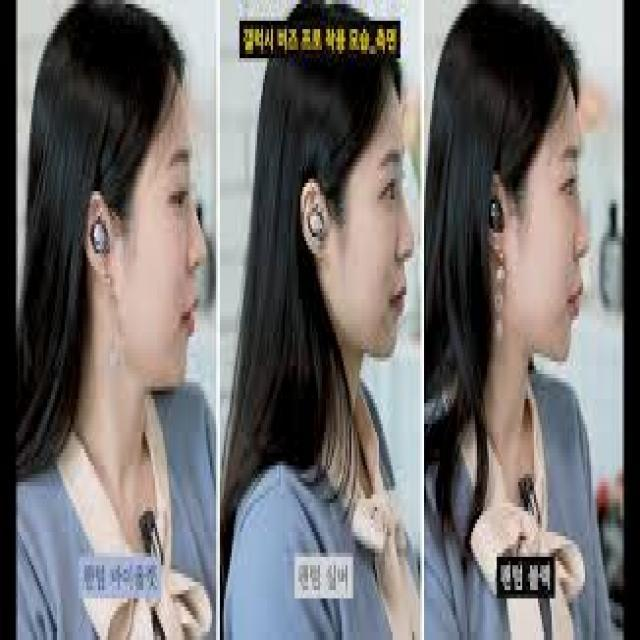earphone: (88, 212, 137, 275), (482, 190, 505, 248), (307, 200, 330, 257)
